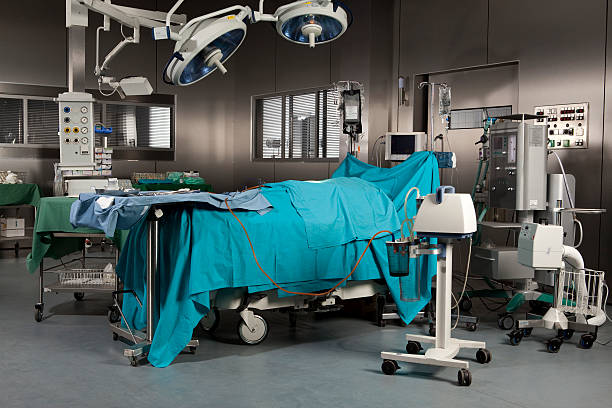bedside_monitor: (385, 131, 428, 162)
bedside_table: (73, 193, 220, 367)
handle: (474, 253, 496, 264)
iv_pole: (417, 81, 452, 150), (332, 79, 363, 150)
operating_bed: (114, 152, 443, 345)
surgical_light: (162, 5, 254, 86), (275, 1, 354, 46)
utility_cart: (26, 195, 121, 324), (1, 171, 40, 259)
